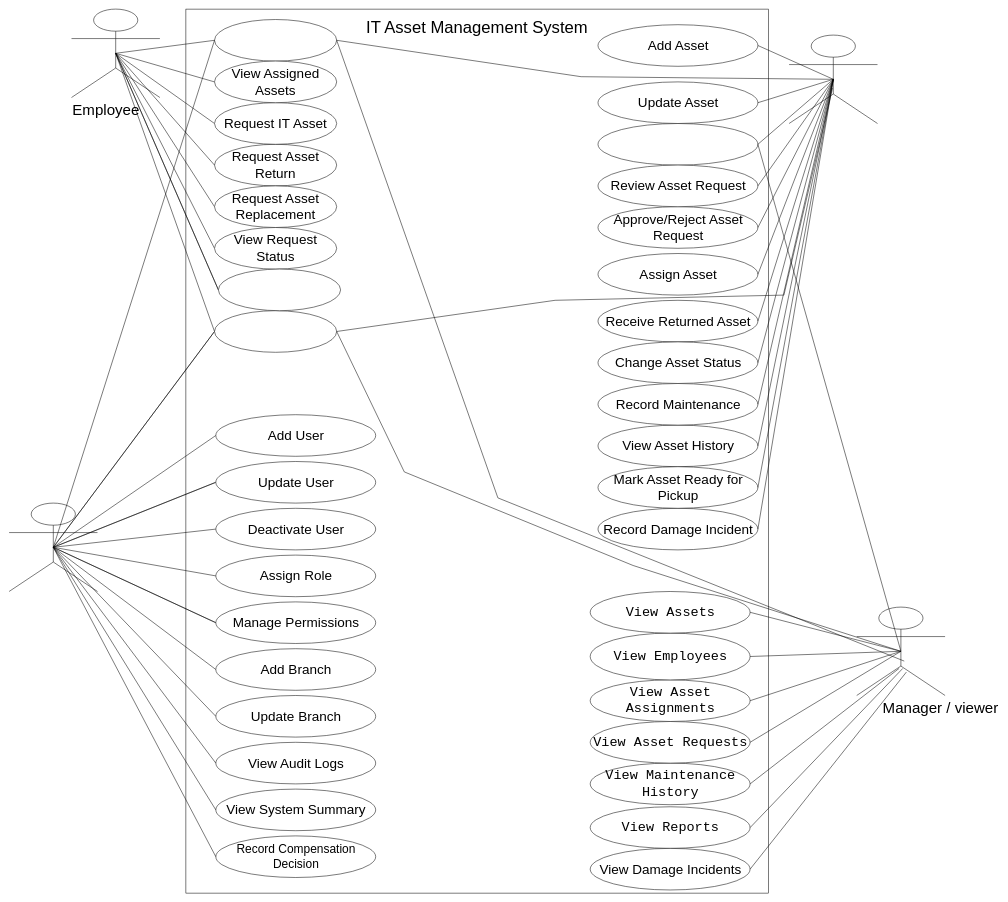
This 1008x902 diagram has some shape labels left out. The box of each missing label's shape, as (x1, y1, x2, y2) in pixels:
Admin: (9, 503, 98, 592)
IT Technician: (789, 35, 878, 124)
Login: (214, 19, 337, 61)
Logout: (214, 310, 337, 352)
Search Assets: (597, 123, 758, 165)
View Request History: (218, 269, 341, 311)
